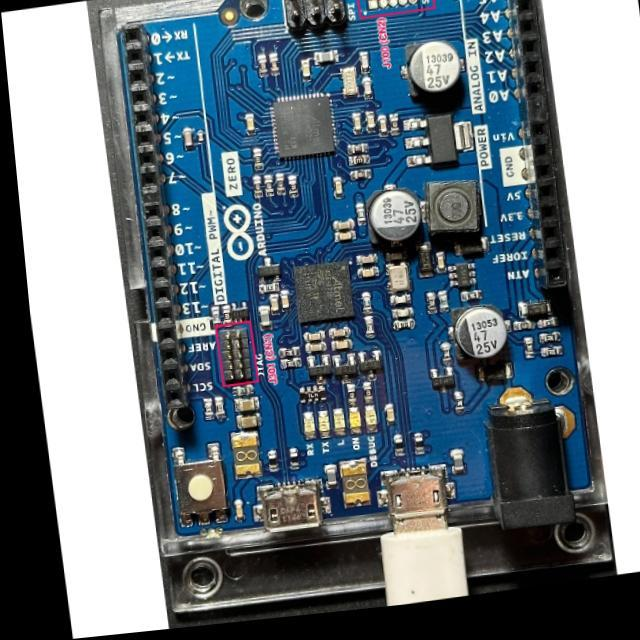Arduino-Zero: (89, 1, 594, 555)
